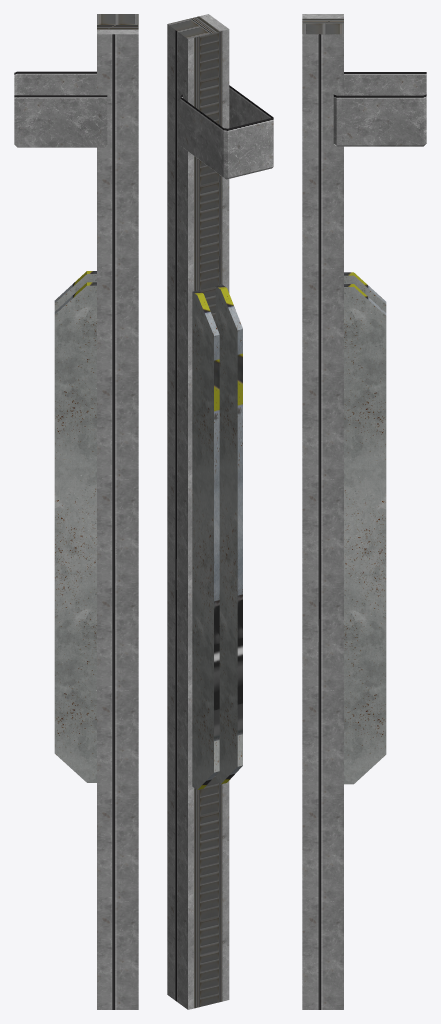
File: Ob_ScafVertThick_RC.fbx
3 renders of one model, left to right at view 1: azimuth 90°, elevation 25°; view 2: azimuth 210°, elevation 25°; view 3: azimuth 270°, elevation 25°, orthographic.
Visible parts, largest first — view 1: Ob_ScafVertThick_RC; view 2: Ob_ScafVertThick_RC; view 3: Ob_ScafVertThick_RC.
Part boxes in pixels (left/top/right/bottom): Ob_ScafVertThick_RC: left=14, top=14, right=138, bottom=1009; Ob_ScafVertThick_RC: left=167, top=14, right=273, bottom=1009; Ob_ScafVertThick_RC: left=302, top=14, right=426, bottom=1009.
Size of the model in its own units: 461 by 8849 by 1020.
